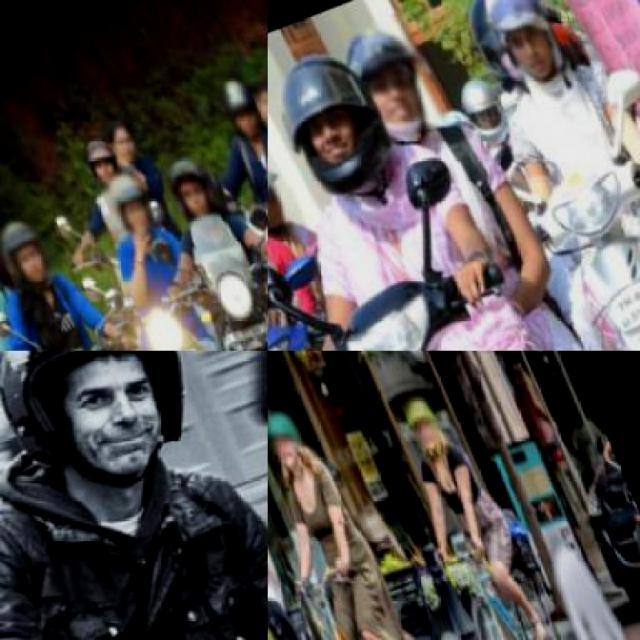With Helmet: (0, 351, 240, 512), (268, 26, 414, 212), (326, 0, 460, 152), (462, 0, 583, 94), (153, 134, 235, 228), (199, 44, 266, 150), (94, 154, 171, 246), (448, 57, 523, 149), (0, 201, 68, 294), (268, 136, 306, 252), (396, 375, 449, 442), (77, 124, 132, 188), (268, 389, 310, 454), (243, 60, 266, 115)
Without Helmet: (103, 108, 149, 163)
